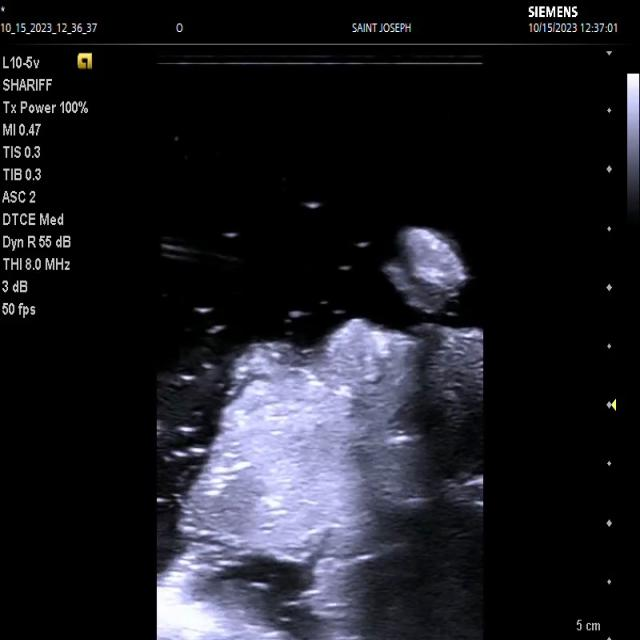tissue: (156, 321, 434, 640), (414, 326, 484, 467), (389, 231, 469, 320), (444, 473, 484, 517)
